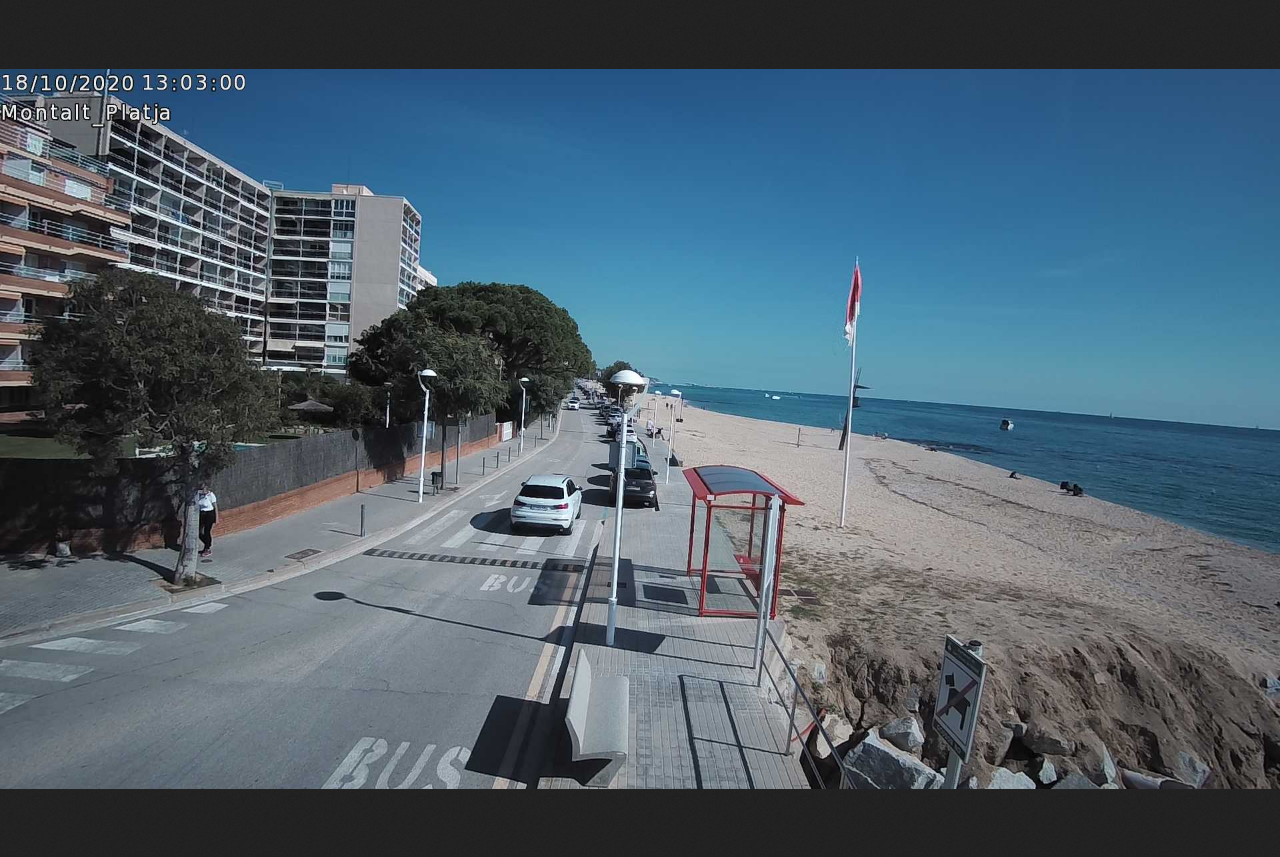no: (842, 259, 861, 347)
